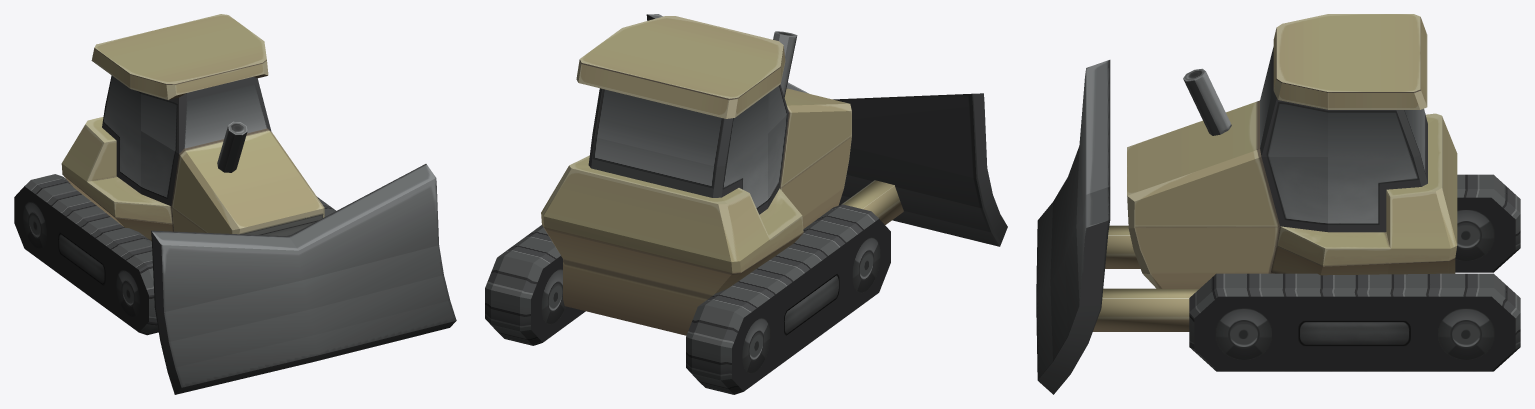
File: Bulldozer.fbx
The picture shows the model from 3 angles, left to right: view 1: azimuth 30°, elevation 25°; view 2: azimuth 150°, elevation 25°; view 3: azimuth 270°, elevation 25°; orthographic projection. The views are drawn at different scales.
Parts seen in each view (by area): view 1: BulldzerBody, depan.001, tabung asap.001; view 2: BulldzerBody, depan.001, tabung asap.001; view 3: BulldzerBody, depan.001, tabung asap.001.
Part boxes in pixels (x1=…): BulldzerBody: x1=14, y1=14, x2=335, y2=335; depan.001: x1=151, y1=164, x2=456, y2=394; tabung asap.001: x1=217, y1=121, x2=247, y2=172; BulldzerBody: x1=485, y1=16, x2=890, y2=394; depan.001: x1=646, y1=14, x2=1007, y2=246; tabung asap.001: x1=773, y1=31, x2=797, y2=97; BulldzerBody: x1=1127, y1=14, x2=1520, y2=371; depan.001: x1=1036, y1=60, x2=1198, y2=394; tabung asap.001: x1=1183, y1=68, x2=1231, y2=135.
Bounding box in the file's own units: 114 × 86.95 × 146.
